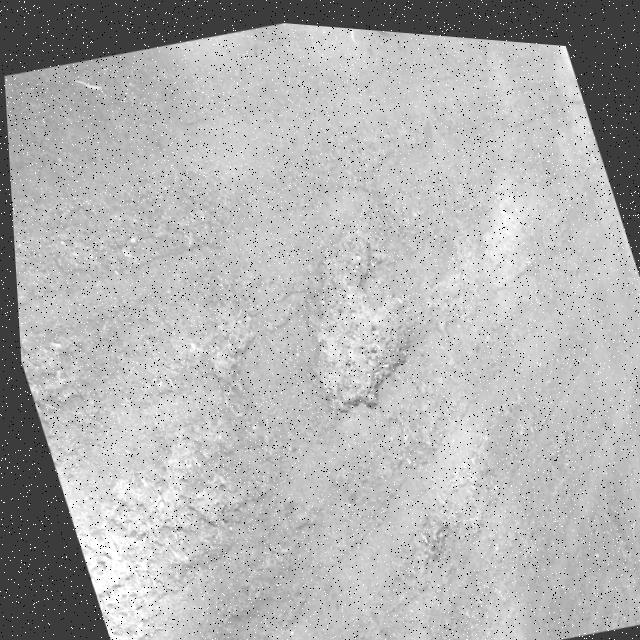pothole: (245, 203, 471, 442)
